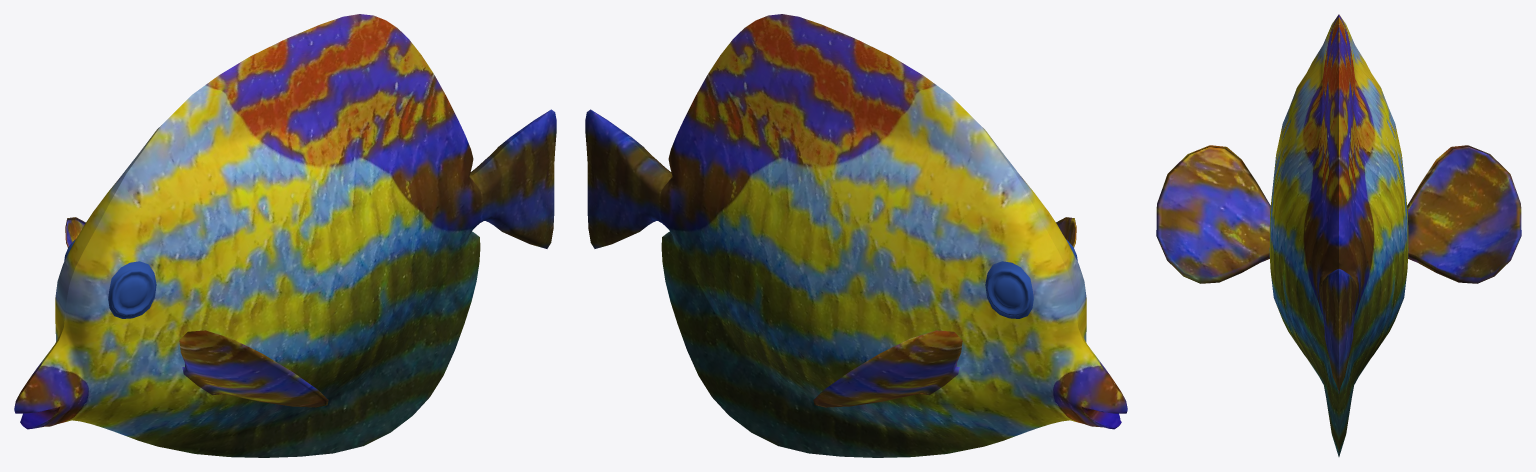
The model's file is fish.glb.
The picture shows the model from 3 angles, left to right: view 1: azimuth 30°, elevation 25°; view 2: azimuth 150°, elevation 25°; view 3: azimuth 270°, elevation 25°; orthographic projection. The views are drawn at different scales.
Visible parts, largest first — view 1: defaultMaterial; view 2: defaultMaterial; view 3: defaultMaterial.
Boxes of the visible parts, left/top/right/bottom form: defaultMaterial: left=14, top=14, right=556, bottom=457; defaultMaterial: left=585, top=14, right=1127, bottom=457; defaultMaterial: left=1156, top=14, right=1521, bottom=456.
Size of the model in its own units: 2215 by 1695 by 1406.
Materials: 1 (1 with a texture image).
